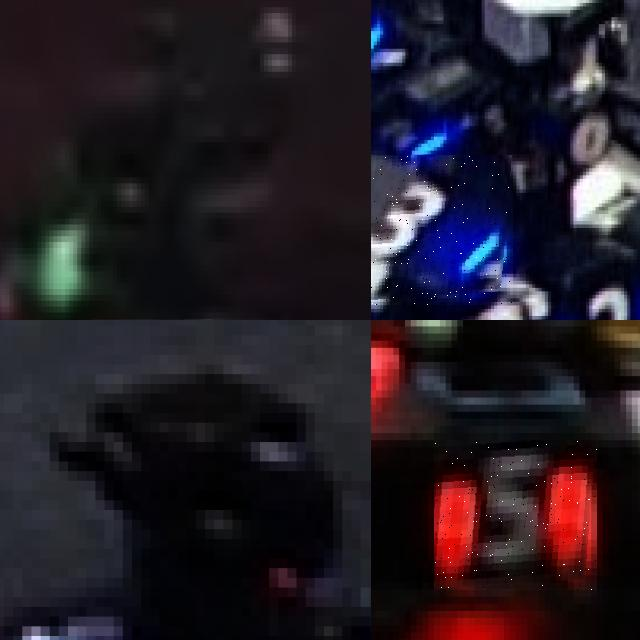B3: (371, 154, 513, 305), (557, 277, 640, 320)
R5: (434, 440, 597, 590)
